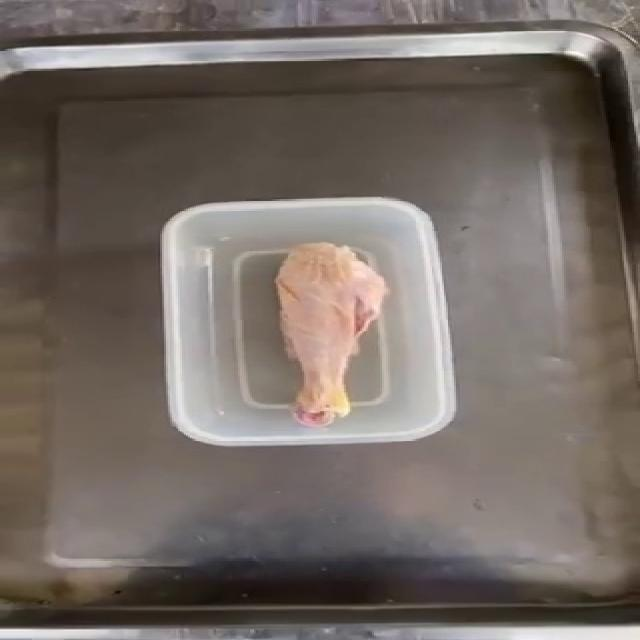chicken: (273, 240, 388, 427)
